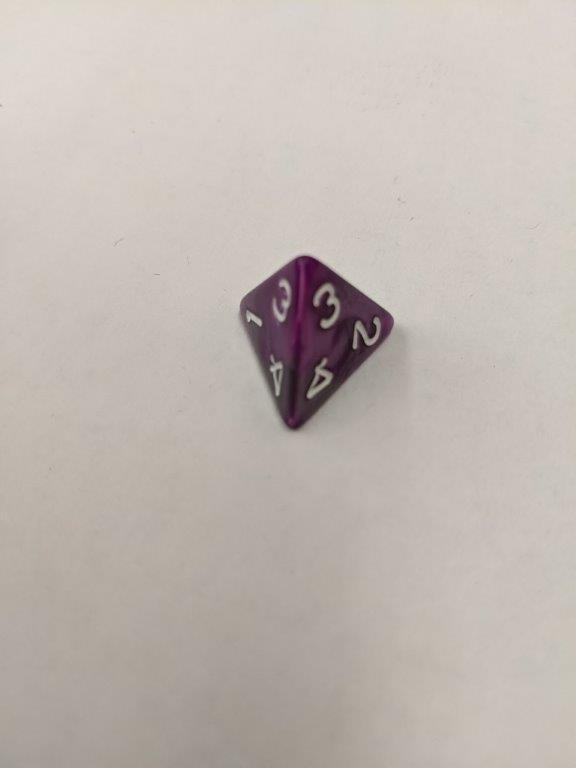d4-3: (237, 252, 397, 432)
